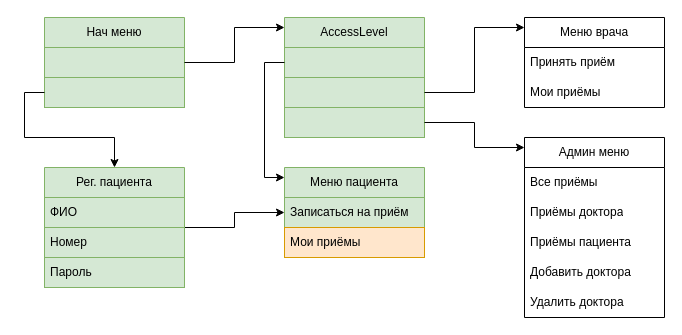
The diagram is 682 pixels wide and 335 high, and some of its shapes have lost their labels. Each missing label, with the centre of its shape:
Admin: point 354,122
Doctor: point 354,92
User: point 354,62
Вход: point 114,62
Регистрация: point 114,92
